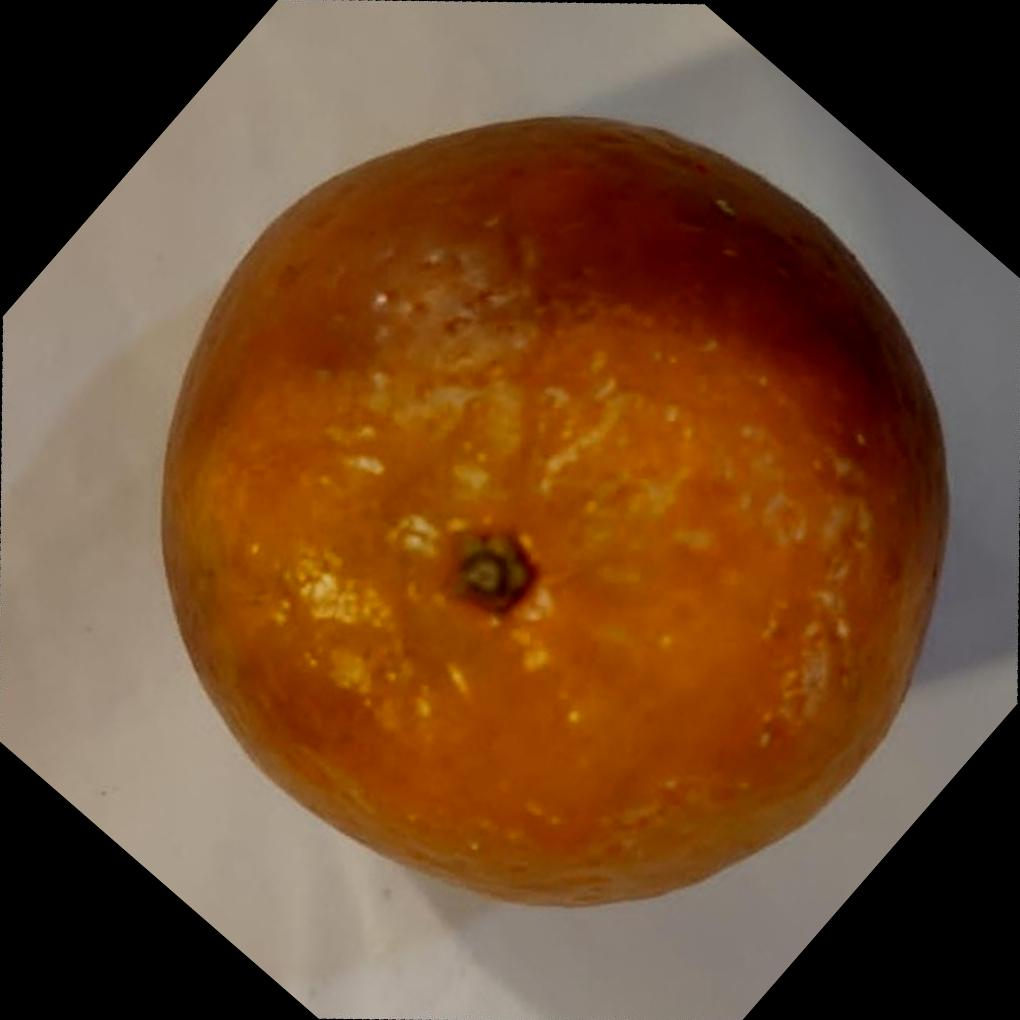FreshOrange: (159, 114, 954, 914)
